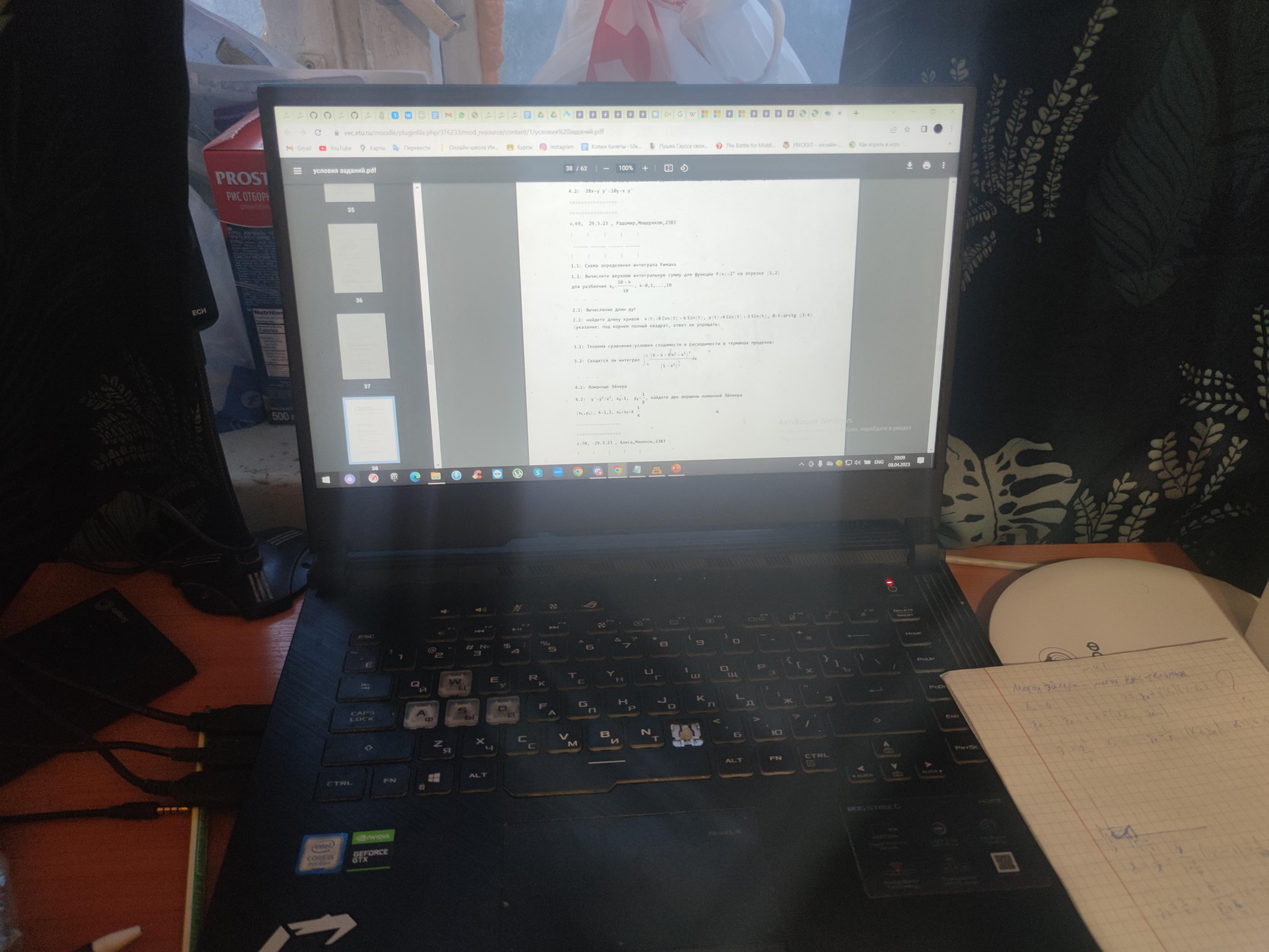monitor: (250, 77, 986, 561)
